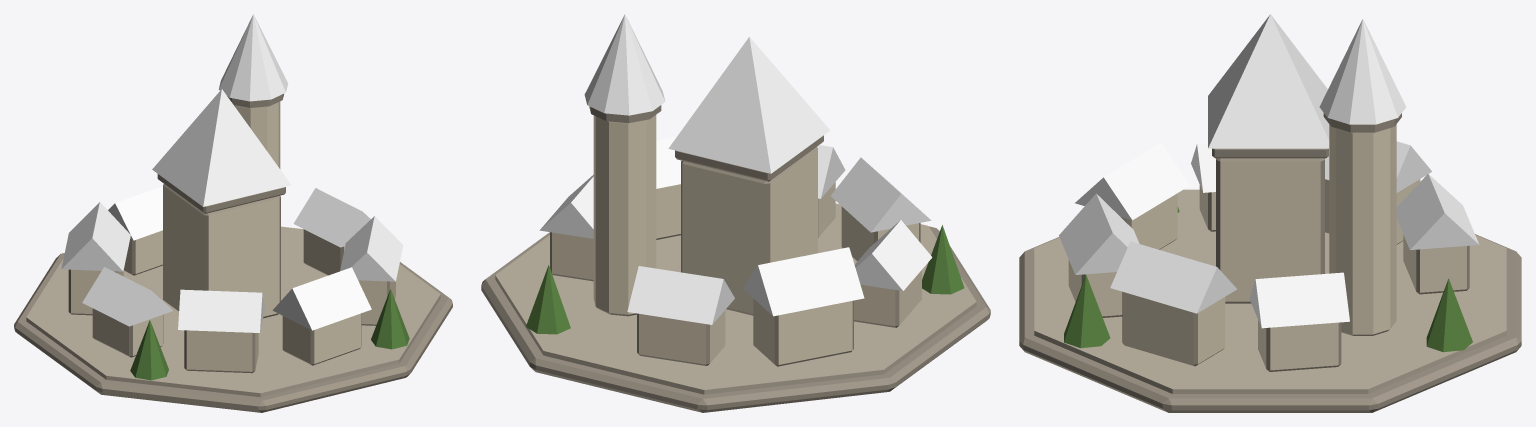
Rendered from city.glb.
The picture shows the model from 3 angles, left to right: view 1: azimuth 30°, elevation 25°; view 2: azimuth 150°, elevation 25°; view 3: azimuth 270°, elevation 25°; orthographic projection. The views are drawn at different scales.
Visible parts, largest first — view 1: City; view 2: City; view 3: City.
Part boxes in pixels (box(x1,y1,x2,y2)): City: box(14, 14, 452, 412); City: box(481, 14, 990, 412); City: box(1019, 14, 1521, 412).
Bounding box in the file's own units: 0.9239 × 0.66 × 0.9239.
